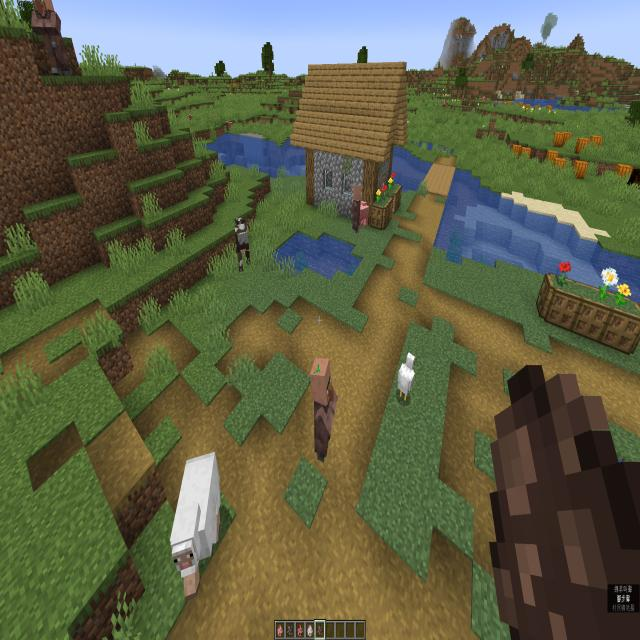chicken: (394, 350, 418, 409)
cow: (230, 214, 258, 276)
pig: (358, 202, 373, 228)
